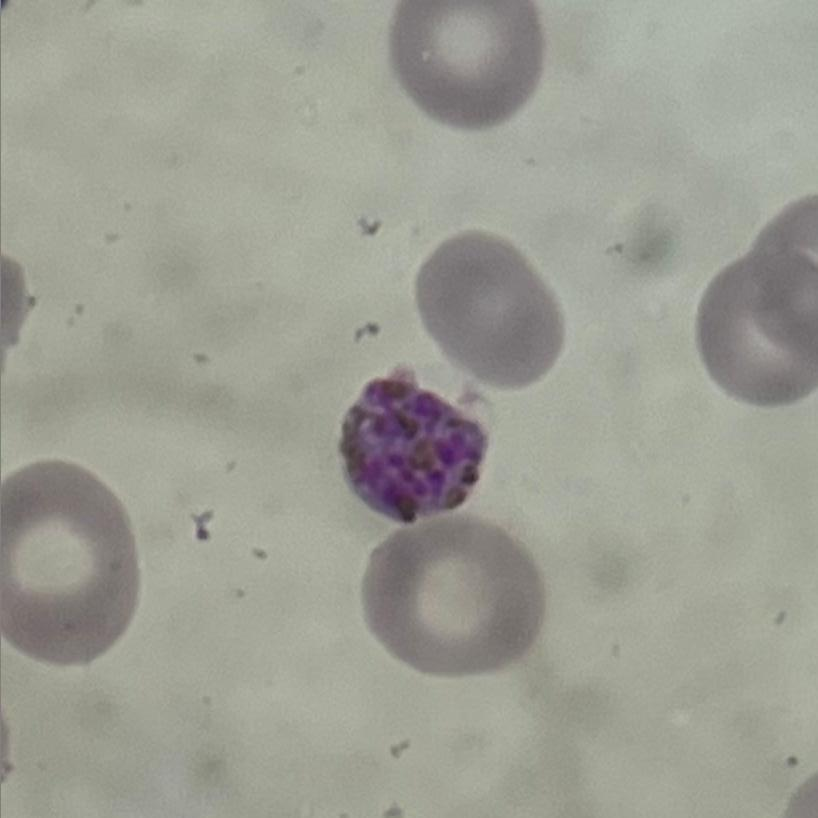Infected: (342, 361, 489, 525)
Uninfected: (2, 454, 147, 662), (360, 516, 544, 677), (418, 227, 566, 389), (385, 0, 545, 135), (695, 252, 818, 405)
